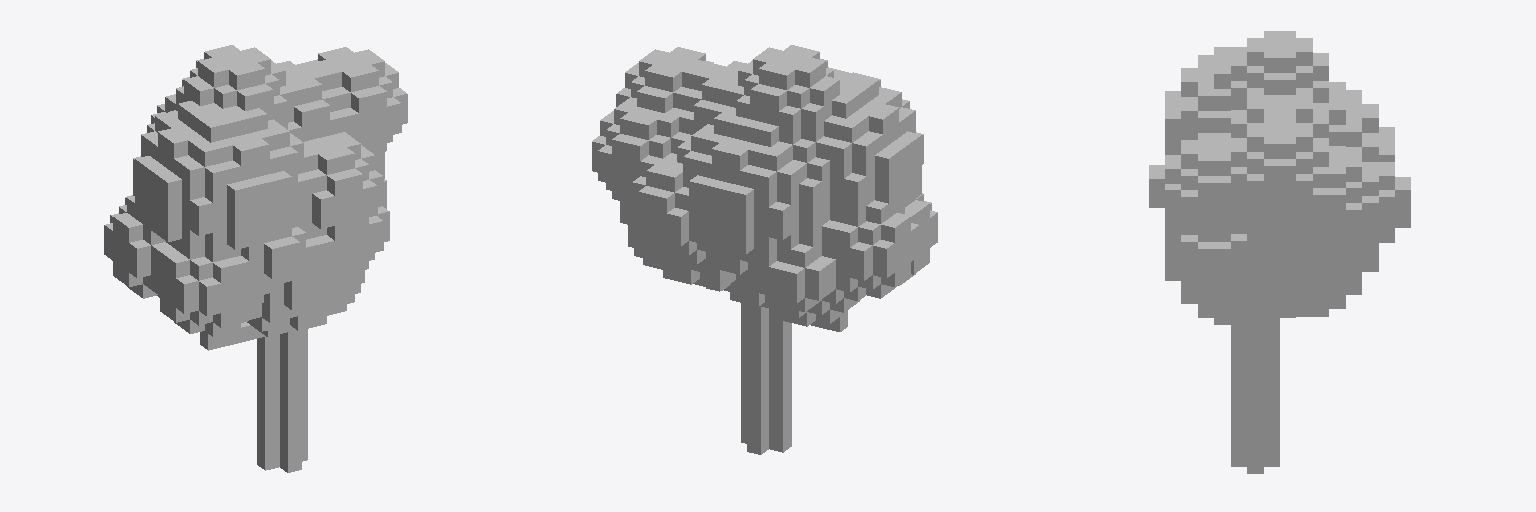
The model's file is tree_pinkish_3X.obj.
The picture shows the model from 3 angles: view 1: azimuth 30°, elevation 25°; view 2: azimuth 150°, elevation 25°; view 3: azimuth 270°, elevation 25°; orthographic projection.
Size of the model in its own units: 19 by 27 by 16.